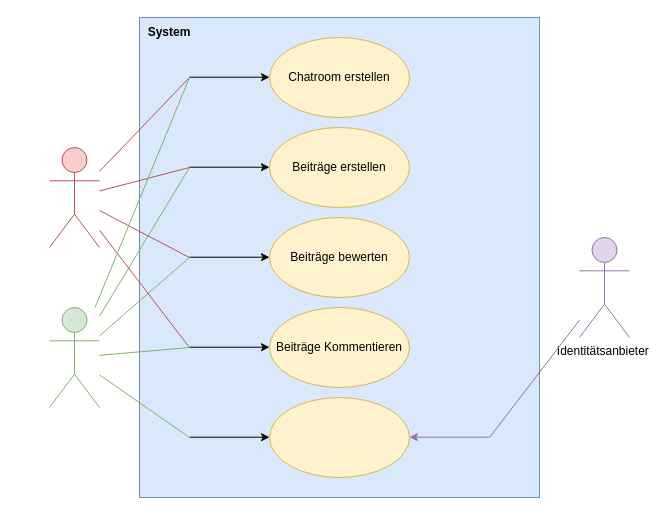
The diagram is 669 pixels wide and 515 high, and some of its shapes have lost their labels. The shapes that lost their labels are listed below. From the top down, each one's centre as x and y in pixels, then its label:
At (x=74, y=197): "Anonymer Benutzer".
At (x=74, y=357): "Verifizierter Benutzer".
At (x=339, y=437): "Benutzer Verifizieren".
